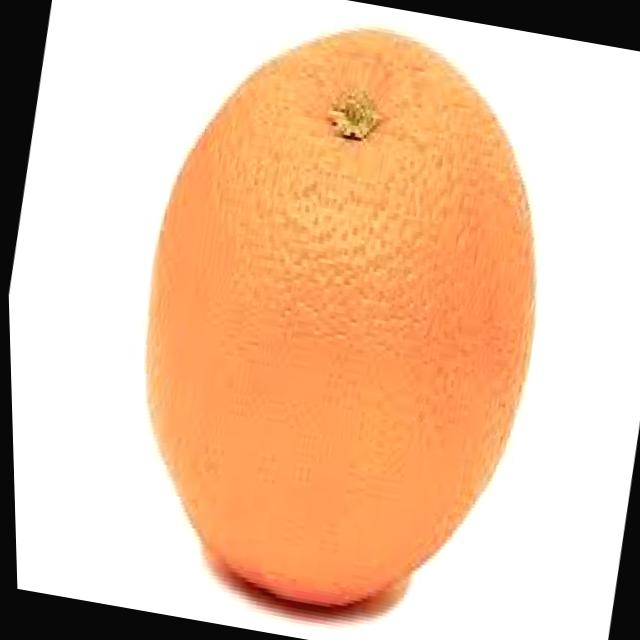orange: (87, 0, 586, 638)
